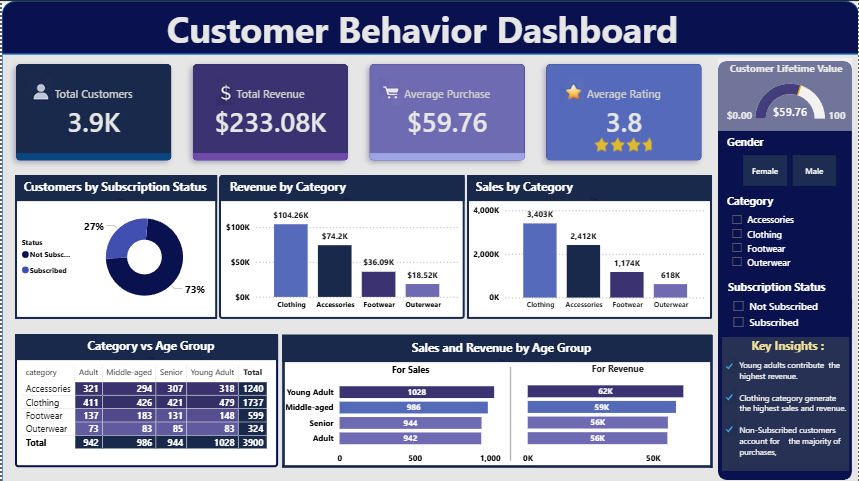

The page's visual inventory and layout, read from the dashboard file:
{"tool":"powerbi","page":{"name":"Page 1","canvas":[1280,720],"ordinal":0},"visuals":[{"type":"cardVisual","fields":{"Data":["customer_behavior customer.Number of Customers","customer_behavior customer.Total Revenue","customer_behavior customer.Average Purchase Amount","customer_behavior customer.Average Review Rating"]},"box":[0,73.2,1068,186.7],"z":0,"group":"g1"},{"type":"shape","box":[0,79.2,1280.2,640.8],"z":0,"group":"g9"},{"type":"shape","box":[418.2,682.6,642.3,25.4],"z":0,"group":"g8"},{"type":"shape","box":[0,0,1280.2,79.2],"z":1000,"group":"g9"},{"type":"donutChart","title":"Customers by Subscription Status","fields":{"Category":["customer_behavior customer.subscription_status"],"Y":["CountNonNull(customer_behavior customer.customer_id)"]},"box":[19.3,259.4,301.7,215.1],"z":1000,"group":"g2"},{"type":"shape","box":[400.3,498.9,40.3,195.7],"z":1000,"group":"g8"},{"type":"textbox","box":[0,0,1256.3,89.6],"z":2000,"group":"g9"},{"type":"shape","box":[1039.6,498.9,40.3,198.7],"z":2000,"group":"g8"},{"type":"group","id":"g1","title":"Group 2","box":[0,73.2,1068,186.7],"z":3000,"group":"g9"},{"type":"group","id":"g2","title":"Group 1","box":[19.3,259.4,301.7,215.1],"z":3000,"group":"g6"},{"type":"shape","box":[1069.5,89.6,200.2,625.9],"z":4000,"group":"g9"},{"type":"image","box":[38.8,98.6,37.3,70.2],"z":5000,"group":"g1"},{"type":"group","id":"g3","title":"Group 3","box":[694.6,259.9,366,215.1],"z":5000,"group":"g9"},{"type":"image","box":[237.5,82.9,192.7,103.4],"z":6000,"group":"g1"},{"type":"group","id":"g4","title":"Group 4","box":[323.6,259.4,367.5,215.1],"z":6000,"group":"g9"},{"type":"clusteredColumnChart","fields":{"Category":["customer_behavior customer.category"],"Y":["Sum(customer_behavior customer.purchase_amount)"]},"box":[323.6,259.4,367.5,215.1],"z":6000,"group":"g4"},{"type":"gauge","title":"Customer Lifetime Value","fields":{"MaxValue":["Max(customer_behavior customer.purchase_amount)"],"Y":["customer_behavior customer.Avg Spend Per Customer"],"TargetValue":["Avg(customer_behavior customer.purchase_amount)1"]},"box":[1069.5,85.1,200.2,109],"z":7000,"group":"g9"},{"type":"image","box":[533.3,91.1,94.1,88.1],"z":7000,"group":"g1"},{"type":"clusteredColumnChart","title":"Sales by Category","fields":{"Category":["customer_behavior customer.category"],"Y":["Sum(customer_behavior customer.customer_id)"]},"box":[694.6,259.9,366,215.1],"z":7000,"group":"g3"},{"type":"image","box":[791.7,92.6,119.5,80.7],"z":8000,"group":"g1"},{"type":"shape","title":"Customers by Subscription Status","box":[19.3,259.4,301.7,38.8],"z":8000,"group":"g6"},{"type":"shape","title":"Revenue by Category","box":[326.6,259.4,364.4,38.8],"z":8000,"group":"g4"},{"type":"shape","title":"Sales by Category","box":[694.6,259.9,366,38.8],"z":8000,"group":"g3"},{"type":"pivotTable","title":"Category vs Age Group","fields":{"Rows":["customer_behavior customer.category"],"Columns":["customer_behavior customer.age_group"],"Values":["CountNonNull(customer_behavior customer.customer_id)"]},"box":[19.4,498,392.9,198.7],"z":8000,"group":"g7"},{"type":"group","id":"g5","title":"Group 6","box":[418.2,499.7,643.6,196.2],"z":8000,"group":"g9"},{"type":"image","box":[808.1,194.6,240.5,40],"z":9000,"group":"g1"},{"type":"slicer","title":"Gender","fields":{"Values":["customer_behavior customer.gender"]},"box":[1068,197.2,200.2,83.7],"z":9000,"group":"g9"},{"type":"slicer","title":"Subscription Status","fields":{"Values":["customer_behavior customer.subscription_status"]},"box":[1069.5,413.8,200.2,77.7],"z":10000,"group":"g9"},{"type":"clusteredBarChart","title":"For Sales ","fields":{"Category":["customer_behavior customer.age_group"],"Y":["CountNonNull(customer_behavior customer.customer_id)"]},"box":[421,539,377.9,156.8],"z":10000,"group":"g5"},{"type":"slicer","title":"Category","fields":{"Values":["customer_behavior customer.category"]},"box":[1068,285.3,200.2,122.5],"z":11000,"group":"g9"},{"type":"clusteredBarChart","title":"For Revenue","fields":{"Category":["customer_behavior customer.age_group"],"Y":["Sum(customer_behavior customer.purchase_amount)"]},"box":[769,537.5,292.8,158.3],"z":11500,"group":"g5"},{"type":"group","id":"g6","title":"Group 5","box":[19.3,259.4,301.7,215.1],"z":12000,"group":"g9"},{"type":"shape","title":"Category vs Age Group","box":[19.4,498,392.9,38.8],"z":12000,"group":"g7"},{"type":"shape","title":"Sales and Revenue by Age Group","box":[418.2,499.7,642.3,38.8],"z":12000,"group":"g5"},{"type":"group","id":"g7","title":"Group 7","box":[19.4,498,392.9,198.7],"z":13000,"group":"g9"},{"type":"textbox","title":"Key Insights :","box":[1075,501.9,190,200],"z":14000,"group":"g9"},{"type":"shape","box":[739.4,546.7,40.3,140.4],"z":15000,"group":"g9"},{"type":"shape","box":[418.3,488.5,642.3,25.4],"z":16000,"group":"g9"},{"type":"group","id":"g8","title":"Group 8","box":[400.3,498.9,679.7,209.1],"z":17000,"group":"g9"},{"type":"image","box":[1072,577,28,26.9],"z":18000,"group":"g9"},{"type":"image","box":[1072,530,28,26.9],"z":19000,"group":"g9"},{"type":"image","box":[1072,625,28,26.9],"z":20000,"group":"g9"},{"type":"group","id":"g9","title":"Group 9","box":[0,0,1280.2,720],"z":20001}]}

Visuals, with their boxes in screenshot pixels (x1, y1, x2, y2), scaled from the page's 1280x720 canvas onto the 859x481 screenshot:
cardVisual - customer_behavior customer.Number of Customers x customer_behavior customer.Total Revenue: [x1=0, y1=49, x2=717, y2=174]
shape: [x1=0, y1=53, x2=858, y2=480]
shape: [x1=281, y1=456, x2=712, y2=473]
shape: [x1=0, y1=0, x2=858, y2=53]
"Customers by Subscription Status" donutChart: [x1=13, y1=173, x2=215, y2=317]
shape: [x1=269, y1=333, x2=296, y2=464]
textbox: [x1=0, y1=0, x2=843, y2=60]
shape: [x1=698, y1=333, x2=725, y2=466]
"Group 2" group: [x1=0, y1=49, x2=717, y2=174]
"Group 1" group: [x1=13, y1=173, x2=215, y2=317]
shape: [x1=718, y1=60, x2=852, y2=478]
image: [x1=26, y1=66, x2=51, y2=113]
"Group 3" group: [x1=466, y1=174, x2=712, y2=317]
image: [x1=159, y1=55, x2=289, y2=124]
"Group 4" group: [x1=217, y1=173, x2=464, y2=317]
clusteredColumnChart - customer_behavior customer.category x Sum(customer_behavior customer.purchase_amount): [x1=217, y1=173, x2=464, y2=317]
"Customer Lifetime Value" gauge: [x1=718, y1=57, x2=852, y2=130]
image: [x1=358, y1=61, x2=421, y2=120]
"Sales by Category" clusteredColumnChart: [x1=466, y1=174, x2=712, y2=317]
image: [x1=531, y1=62, x2=612, y2=116]
"Customers by Subscription Status" shape: [x1=13, y1=173, x2=215, y2=199]
"Revenue by Category" shape: [x1=219, y1=173, x2=464, y2=199]
"Sales by Category" shape: [x1=466, y1=174, x2=712, y2=200]
"Category vs Age Group" pivotTable: [x1=13, y1=333, x2=277, y2=465]
"Group 6" group: [x1=281, y1=334, x2=713, y2=465]
image: [x1=542, y1=130, x2=704, y2=157]
"Gender" slicer: [x1=717, y1=132, x2=851, y2=188]
"Subscription Status" slicer: [x1=718, y1=276, x2=852, y2=328]
"For Sales " clusteredBarChart: [x1=283, y1=360, x2=536, y2=465]
"Category" slicer: [x1=717, y1=191, x2=851, y2=272]
"For Revenue" clusteredBarChart: [x1=516, y1=359, x2=713, y2=465]
"Group 5" group: [x1=13, y1=173, x2=215, y2=317]
"Category vs Age Group" shape: [x1=13, y1=333, x2=277, y2=359]
"Sales and Revenue by Age Group" shape: [x1=281, y1=334, x2=712, y2=360]
"Group 7" group: [x1=13, y1=333, x2=277, y2=465]
"Key Insights :" textbox: [x1=721, y1=335, x2=849, y2=469]
shape: [x1=496, y1=365, x2=523, y2=459]
shape: [x1=281, y1=326, x2=712, y2=343]
"Group 8" group: [x1=269, y1=333, x2=725, y2=473]
image: [x1=719, y1=385, x2=738, y2=403]
image: [x1=719, y1=354, x2=738, y2=372]
image: [x1=719, y1=418, x2=738, y2=436]
"Group 9" group: [x1=0, y1=0, x2=858, y2=480]
